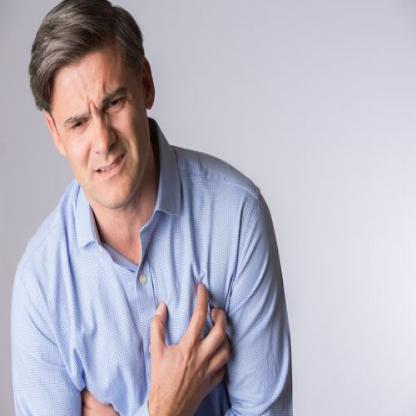pain: (57, 82, 133, 134)
